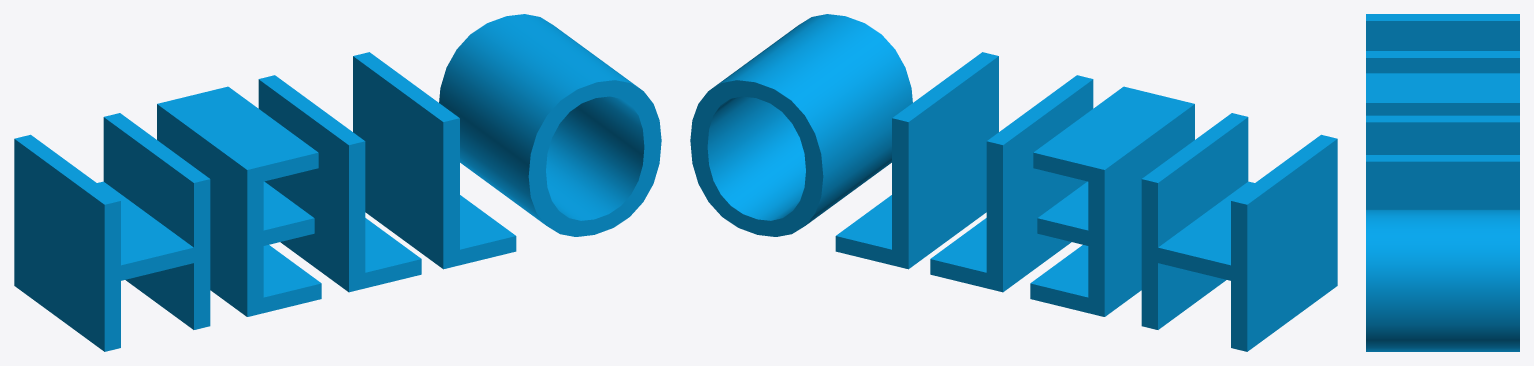
Rendered from Hello.glb.
3 views of the same model, side by side, from view 1: azimuth 30°, elevation 25°; view 2: azimuth 150°, elevation 25°; view 3: azimuth 270°, elevation 25° (orthographic). The views are drawn at different scales.
Visible parts, largest first — view 1: mesh_id38; view 2: mesh_id38; view 3: mesh_id38.
Boxes of the visible parts, bbox=[...] form: mesh_id38: bbox=[14, 14, 661, 351]; mesh_id38: bbox=[690, 14, 1337, 351]; mesh_id38: bbox=[1366, 14, 1519, 351].
Bounding box in the file's own units: 0.1771 × 0.0462 × 0.0497.
1 material, 1 textured.
